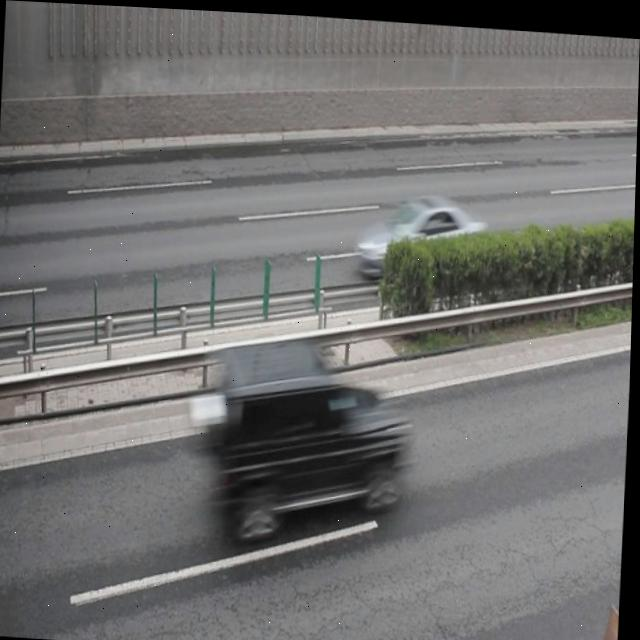car: (209, 333, 411, 542), (355, 186, 490, 286)
